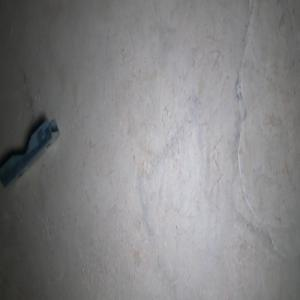ClampPart: (0, 116, 61, 186)
